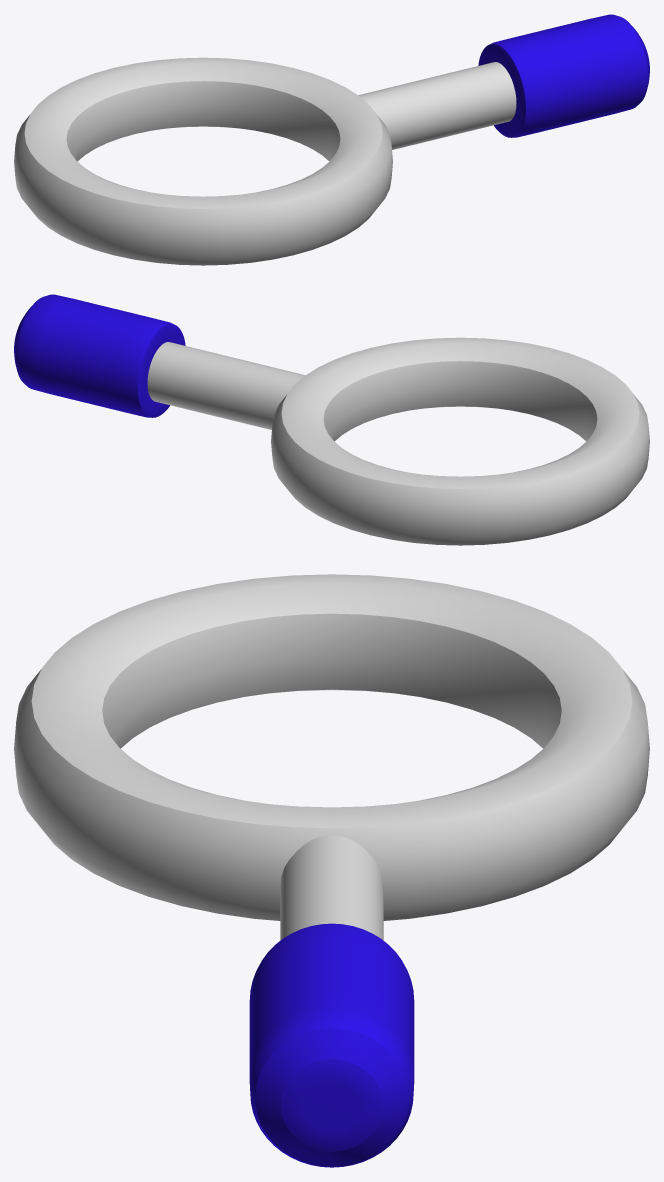
File: SNSIcon.fbx
3 renders of one model, top to bottom at view 1: azimuth 30°, elevation 25°; view 2: azimuth 150°, elevation 25°; view 3: azimuth 270°, elevation 25°, orthographic. The views are drawn at different scales.
Parts seen in each view (by area): view 1: Circle.001, Cylinder.003, Cylinder.002; view 2: Circle.001, Cylinder.003, Cylinder.002; view 3: Circle.001, Cylinder.003, Cylinder.002.
Boxes of the visible parts, x1,y1,x2,y2 form: Circle.001: (14,57,392,265); Cylinder.003: (478,14,649,137); Cylinder.002: (358,62,516,149); Circle.001: (271,337,649,545); Cylinder.003: (14,294,185,417); Cylinder.002: (147,342,305,429); Circle.001: (14,574,649,920); Cylinder.003: (249,923,414,1167); Cylinder.002: (280,835,383,940).
Size of the model in its own units: 360 by 51.25 by 198.
